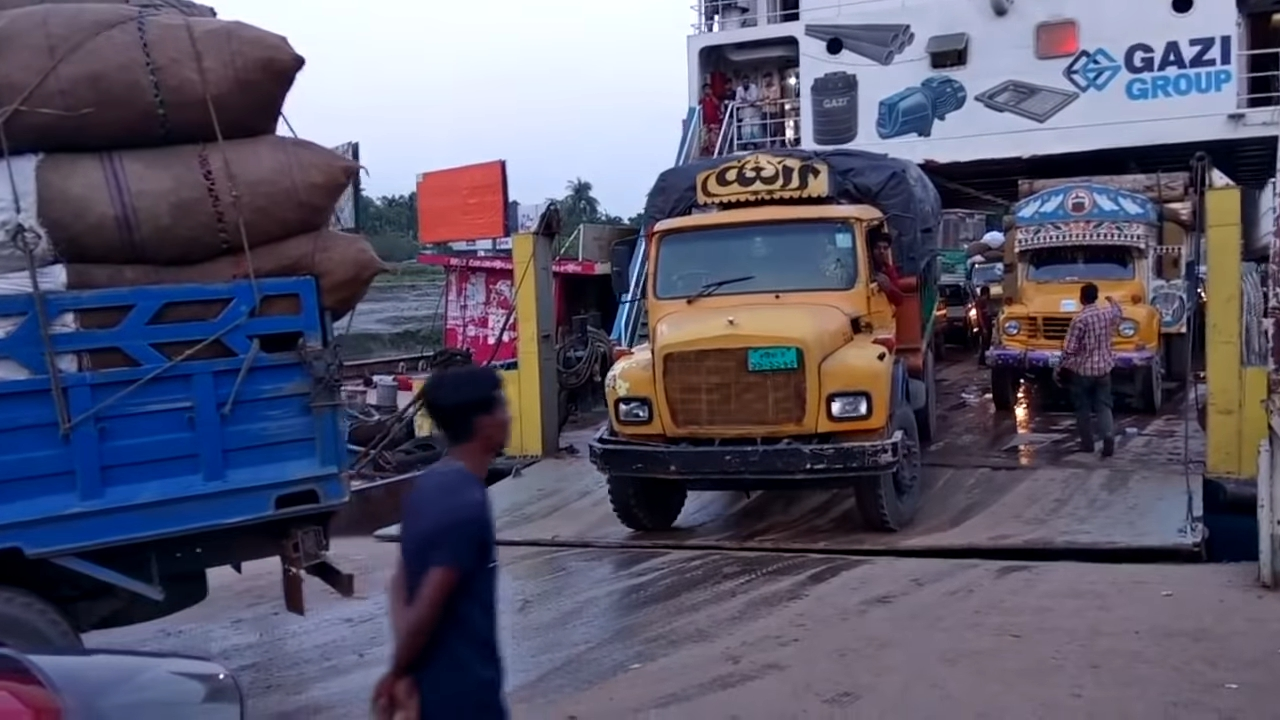car: (935, 277, 990, 352)
truck: (2, 260, 371, 669), (589, 147, 952, 535), (1005, 184, 1175, 409)
